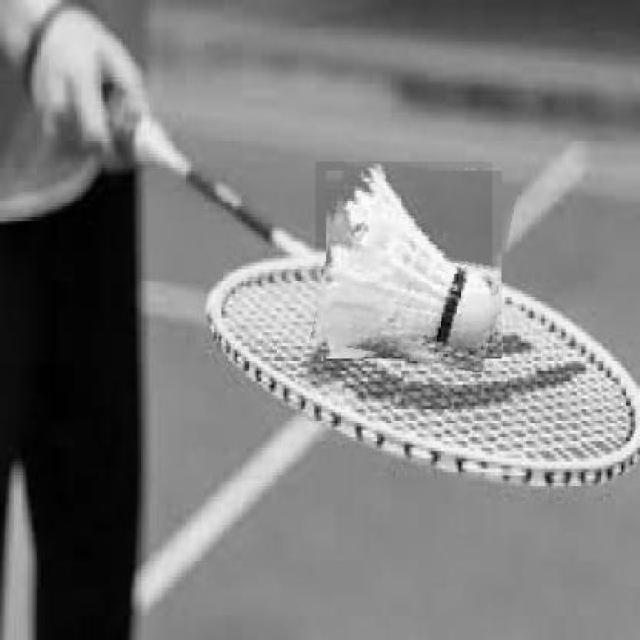Shuttlecock: (314, 160, 491, 351)
